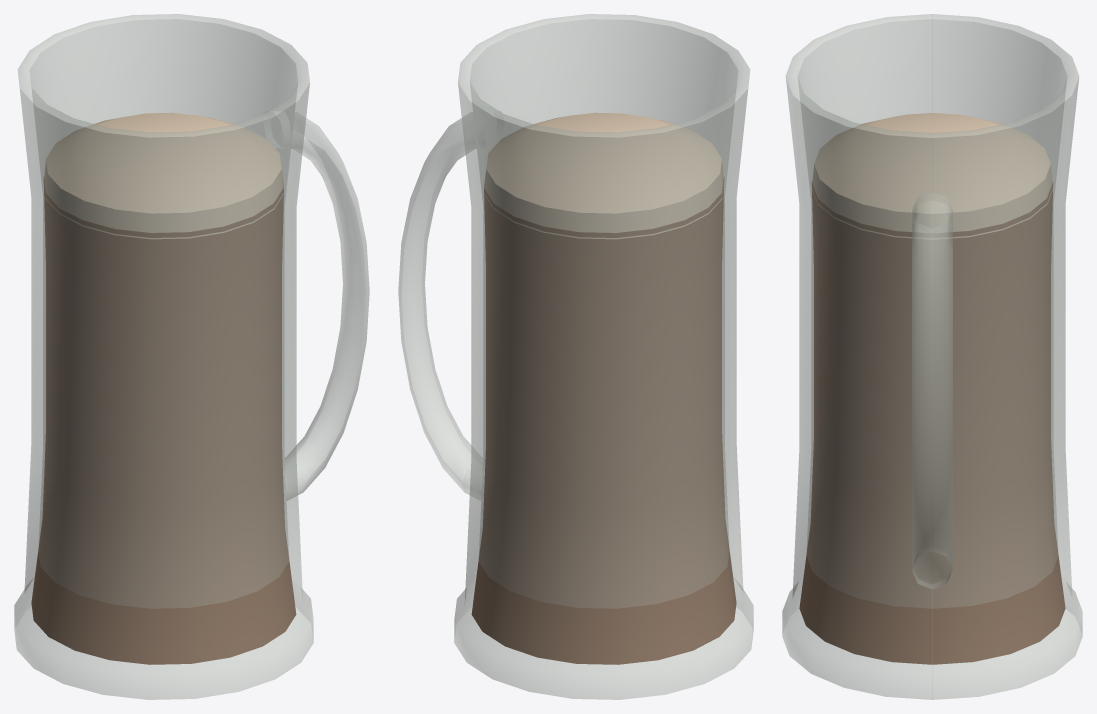
The model's file is drink-5.glb.
3 views of the same model, side by side, from view 1: azimuth 30°, elevation 25°; view 2: azimuth 150°, elevation 25°; view 3: azimuth 270°, elevation 25° (orthographic).
Visible parts, largest first — view 1: glass, liquid, foam; view 2: glass, liquid, foam; view 3: glass, liquid, foam.
Part boxes in pixels (left/top/right/bottom): glass: left=14, top=14, right=369, bottom=699; liquid: left=31, top=173, right=296, bottom=664; foam: left=43, top=112, right=283, bottom=239; glass: left=398, top=14, right=753, bottom=699; liquid: left=471, top=173, right=736, bottom=664; foam: left=484, top=112, right=724, bottom=239; glass: left=782, top=14, right=1082, bottom=699; liquid: left=799, top=181, right=1065, bottom=664; foam: left=811, top=112, right=1053, bottom=238.
Bounding box in the file's own units: 0.1119 × 0.1815 × 0.088.
